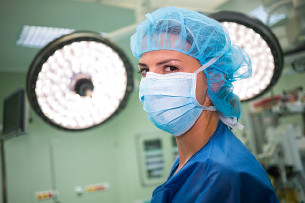face_mask: (137, 51, 200, 134)
